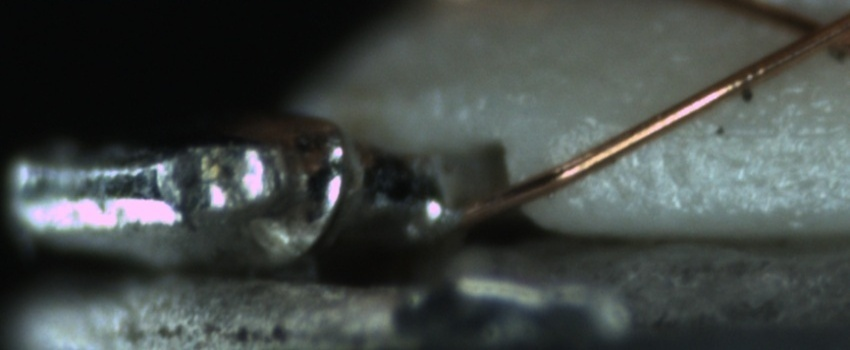CL: (775, 3, 848, 62)
DL: (666, 102, 849, 163)
